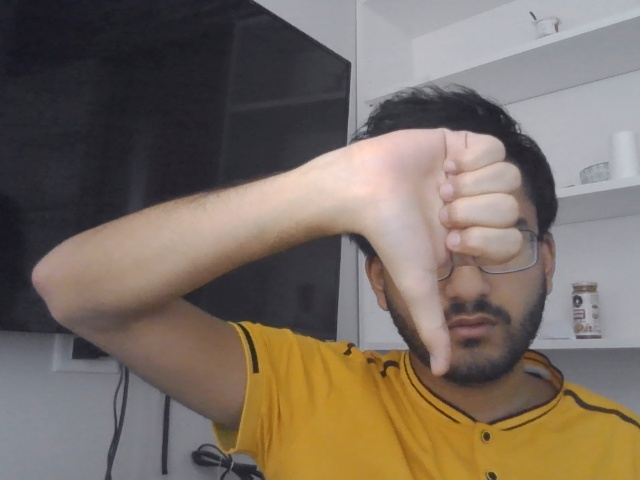ThumbsDown: (366, 128, 523, 376)
